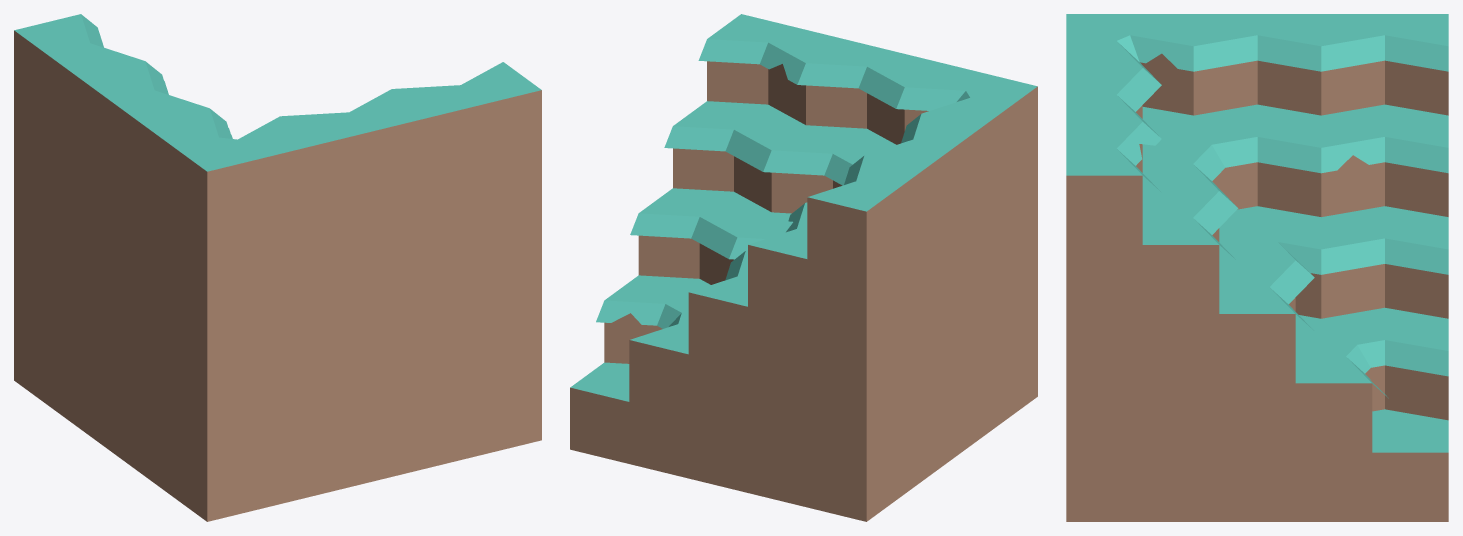
File: cliff_stepsCornerInner_rock.glb
3 renders of one model, left to right at view 1: azimuth 30°, elevation 25°; view 2: azimuth 150°, elevation 25°; view 3: azimuth 270°, elevation 25°, orthographic. The views are drawn at different scales.
Parts seen in each view (by area): view 1: cliff_stepsCornerInner_rock; view 2: cliff_stepsCornerInner_rock; view 3: cliff_stepsCornerInner_rock.
Part boxes in pixels (x1=…): cliff_stepsCornerInner_rock: x1=14, y1=14, x2=541, y2=521; cliff_stepsCornerInner_rock: x1=570, y1=14, x2=1037, y2=521; cliff_stepsCornerInner_rock: x1=1066, y1=14, x2=1448, y2=521.
Size of the model in its own units: 1 by 1 by 1.
